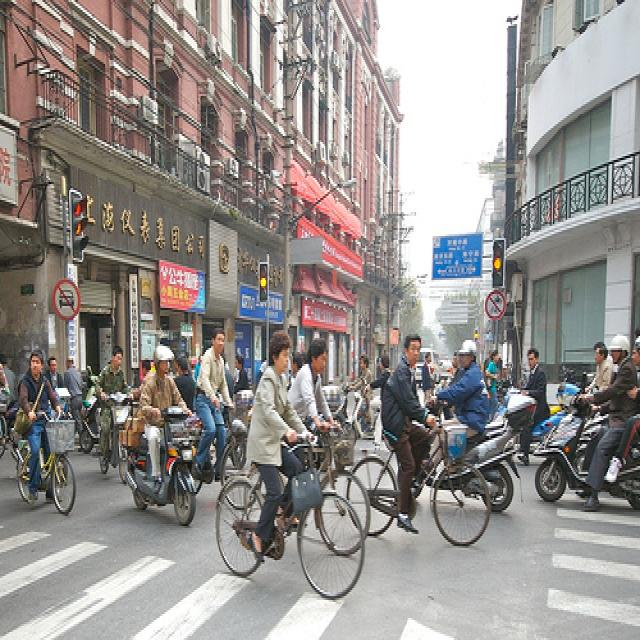motor: (427, 395, 538, 509), (126, 408, 196, 529), (535, 440, 640, 511), (577, 403, 610, 471), (529, 402, 571, 454), (80, 395, 102, 454), (529, 437, 543, 454)
